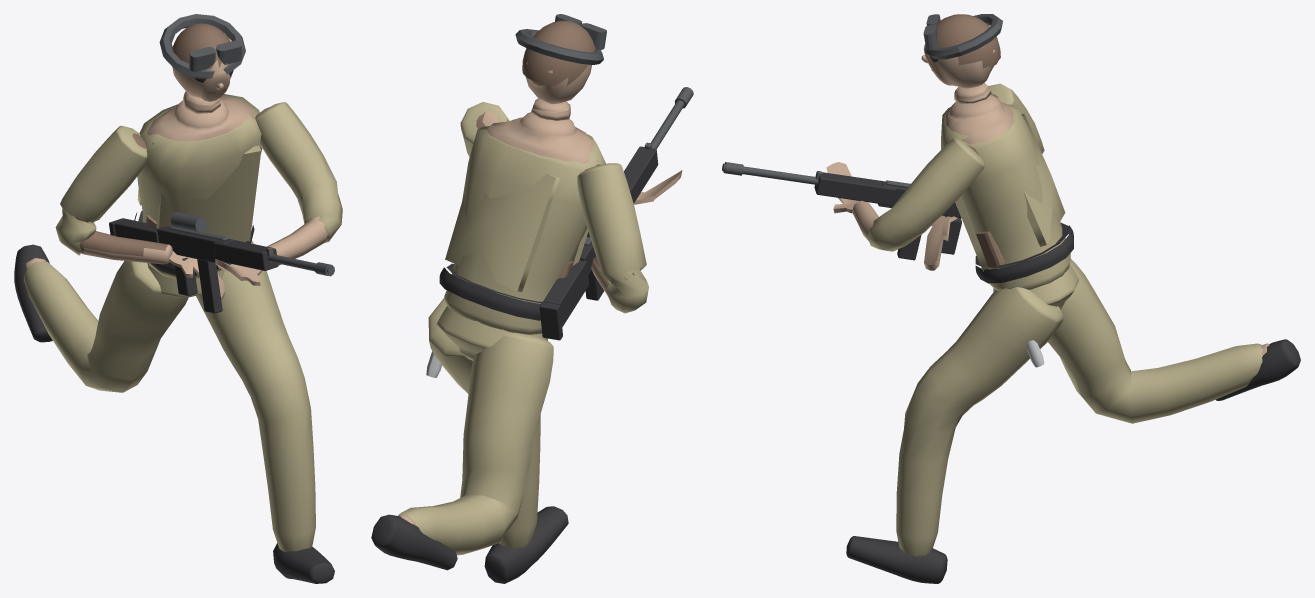
Rendered from tactical-shooter-hill-town-field-engineer-running-1cfd1306__27589.glb.
3 views of the same model, side by side, from view 1: azimuth 30°, elevation 25°; view 2: azimuth 150°, elevation 25°; view 3: azimuth 270°, elevation 25° (orthographic). The views are drawn at different scales.
Parts seen in each view (by area): view 1: field-engineer-running; view 2: field-engineer-running; view 3: field-engineer-running.
Part boxes in pixels (box(x1,y1,x2,y2)): field-engineer-running: box(14, 14, 342, 583); field-engineer-running: box(371, 14, 693, 583); field-engineer-running: box(722, 14, 1300, 583).
Bounding box in the file's own units: 0.6699 × 1.62 × 1.6.
